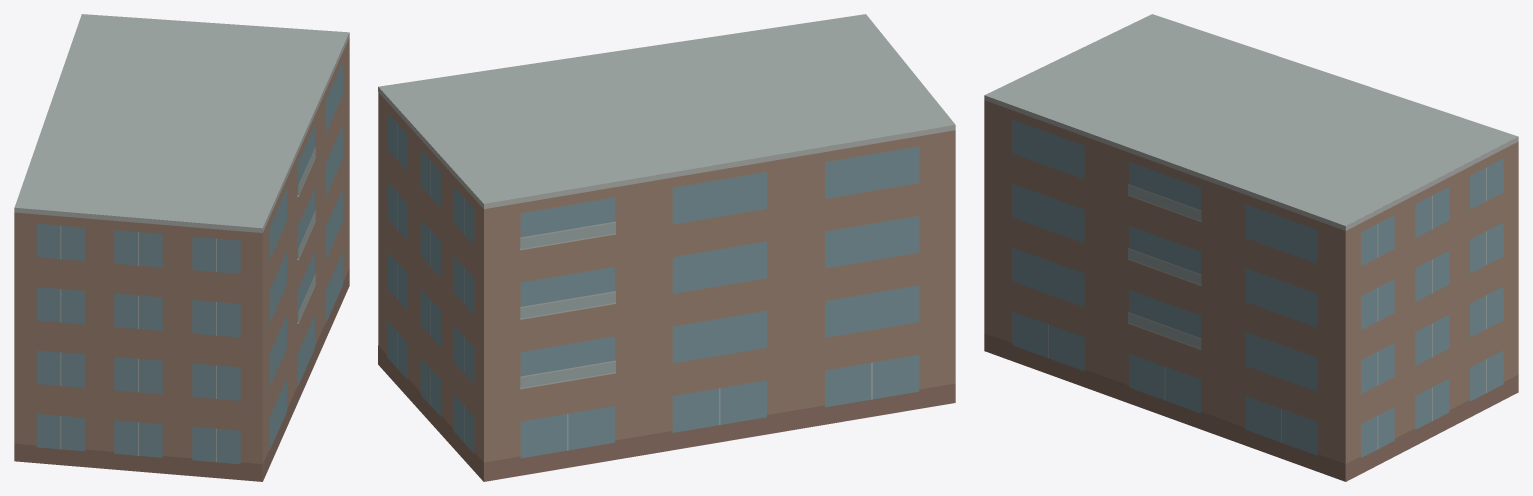
File: survey-upis-32703714.glb
3 renders of one model, left to right at view 1: azimuth 30°, elevation 25°; view 2: azimuth 150°, elevation 25°; view 3: azimuth 270°, elevation 25°, orthographic. The views are drawn at different scales.
Visible parts, largest first — view 1: survey-upis-32703714.tmp; view 2: survey-upis-32703714.tmp; view 3: survey-upis-32703714.tmp.
Part boxes in pixels (bbox=[...]): survey-upis-32703714.tmp: bbox=[14, 14, 349, 481]; survey-upis-32703714.tmp: bbox=[378, 14, 955, 481]; survey-upis-32703714.tmp: bbox=[984, 14, 1518, 481].
Size of the model in its own units: 23.01 by 12.93 by 24.48.
